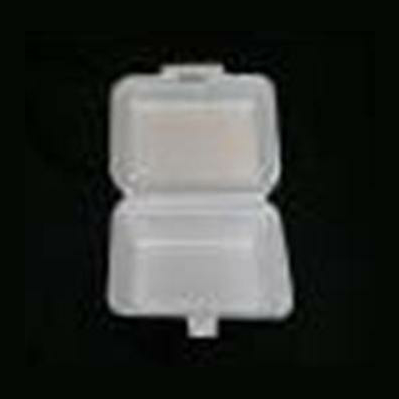Foam Box: (90, 53, 299, 342)
